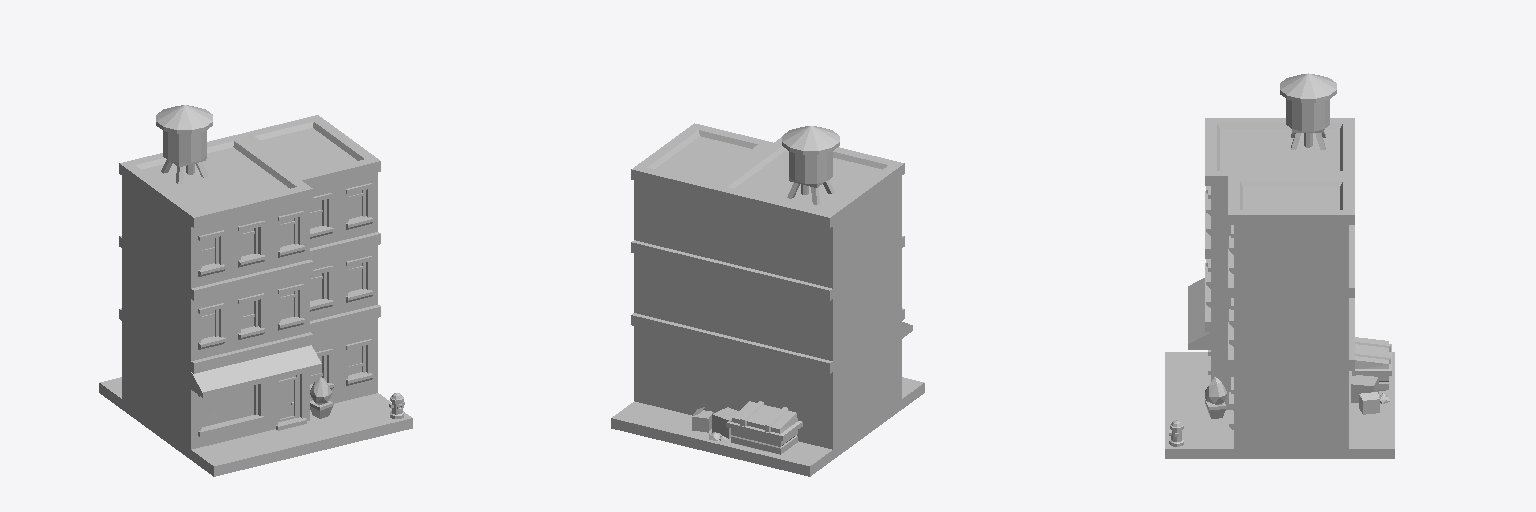
Rendered from building_G.obj.
3 views of the same model, side by side, from view 1: azimuth 30°, elevation 25°; view 2: azimuth 150°, elevation 25°; view 3: azimuth 270°, elevation 25° (orthographic).
Visible parts, largest first — view 1: building_G_Cube.932_texture_city; view 2: building_G_Cube.932_texture_city; view 3: building_G_Cube.932_texture_city.
Part boxes in pixels (x1,y1,x2,y2): building_G_Cube.932_texture_city: (99,105,412,476); building_G_Cube.932_texture_city: (611,123,924,476); building_G_Cube.932_texture_city: (1165,73,1394,458).
Bounding box in the file's own units: 10.03 × 14.88 × 10.